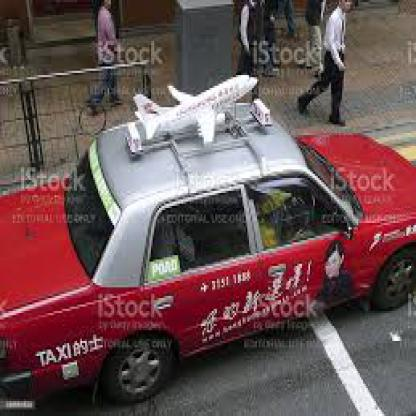taxi: (1, 69, 416, 415)
